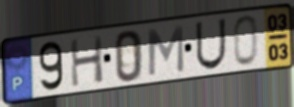0: (231, 13, 262, 69), (114, 28, 144, 84)
9: (37, 40, 64, 92)
H: (68, 33, 106, 89)
M: (146, 23, 186, 78)
U: (194, 17, 228, 72)
